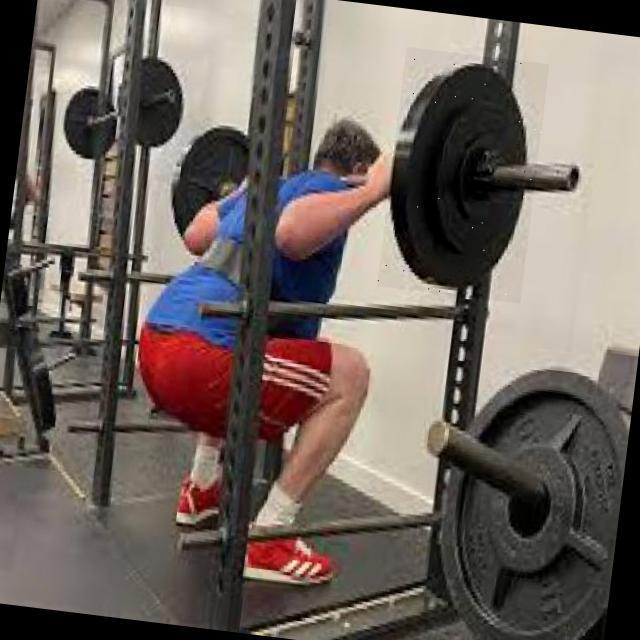barbell: (378, 48, 550, 305)
